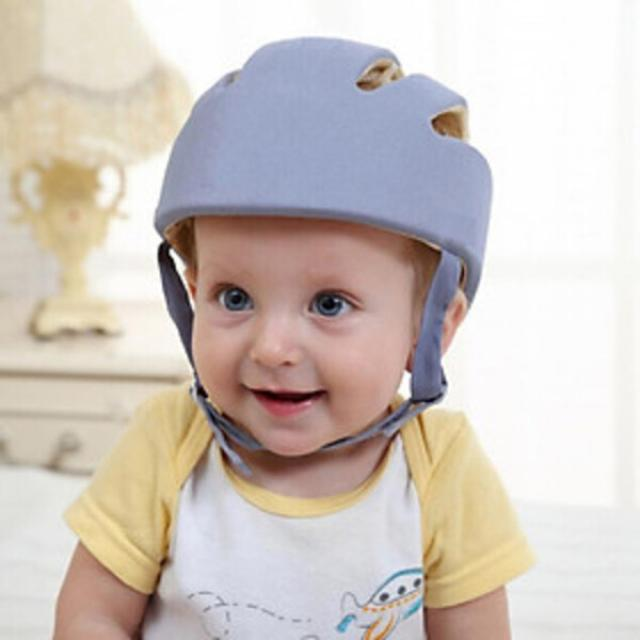Helmet: (150, 28, 503, 456)
